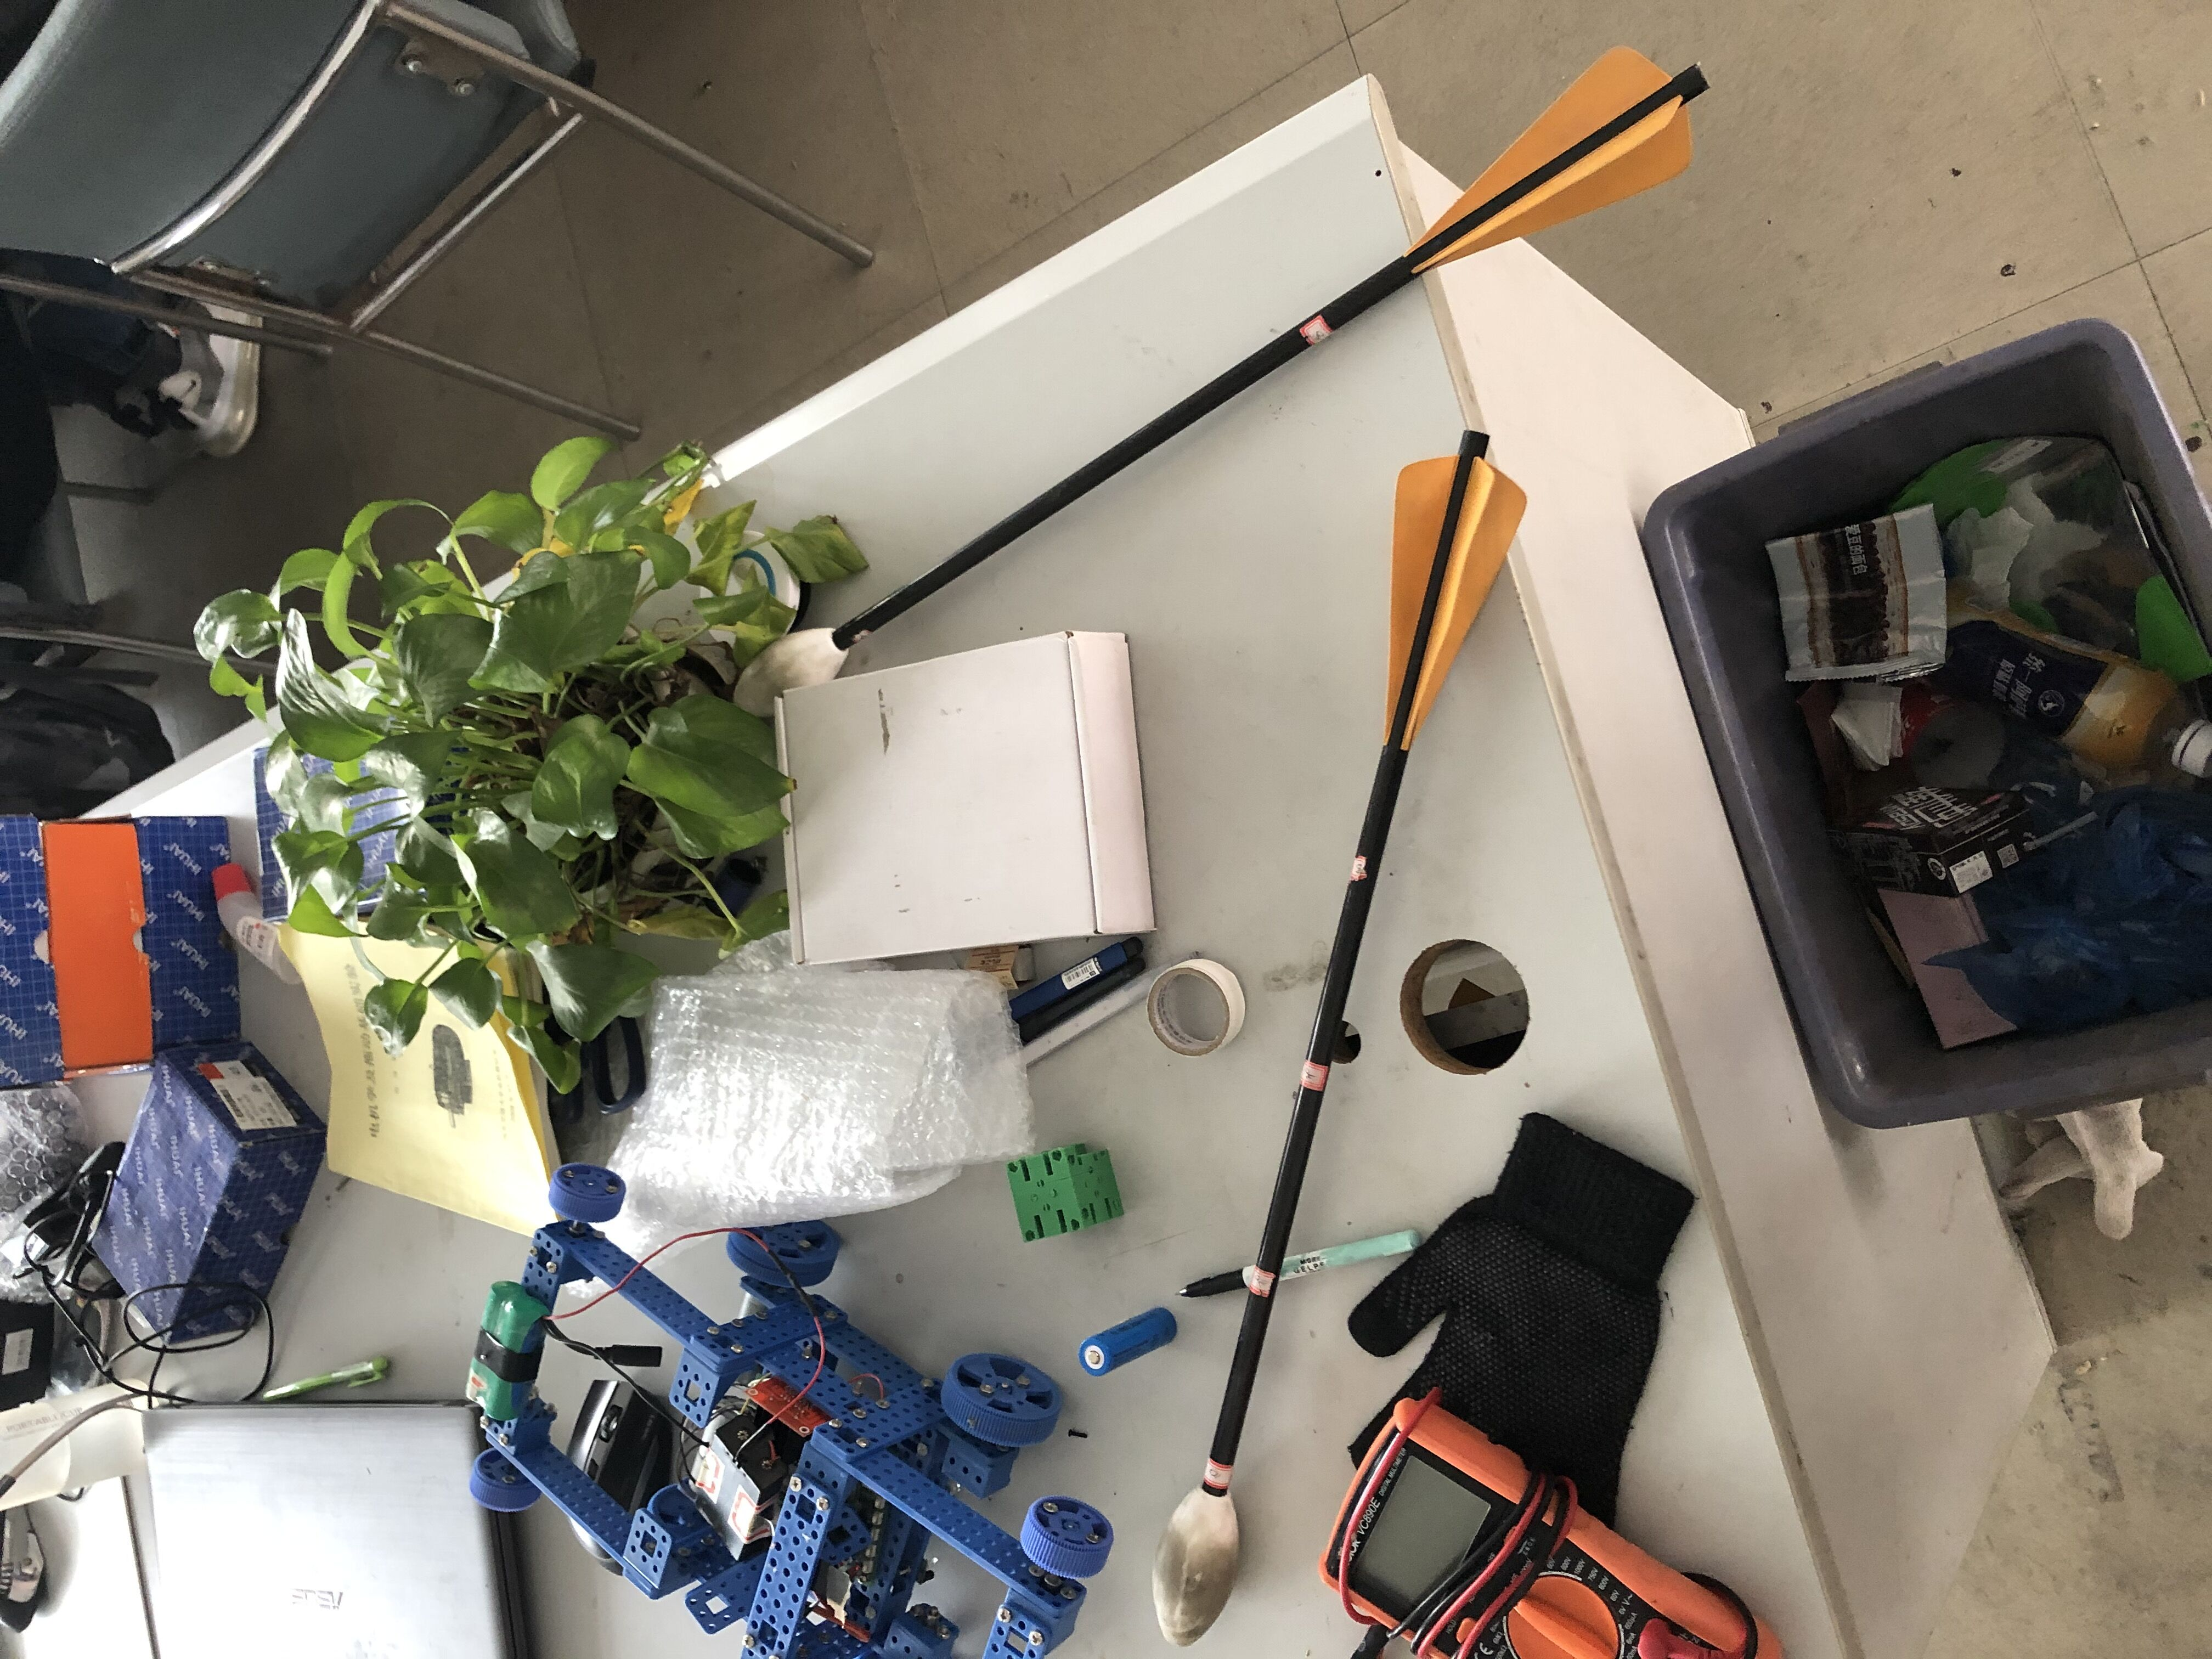arrow: (726, 44, 1709, 714), (1146, 429, 1529, 1645)
arrowFront: (1150, 1488, 1245, 1654), (733, 626, 852, 718)
